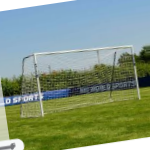goals: (20, 45, 144, 119)
